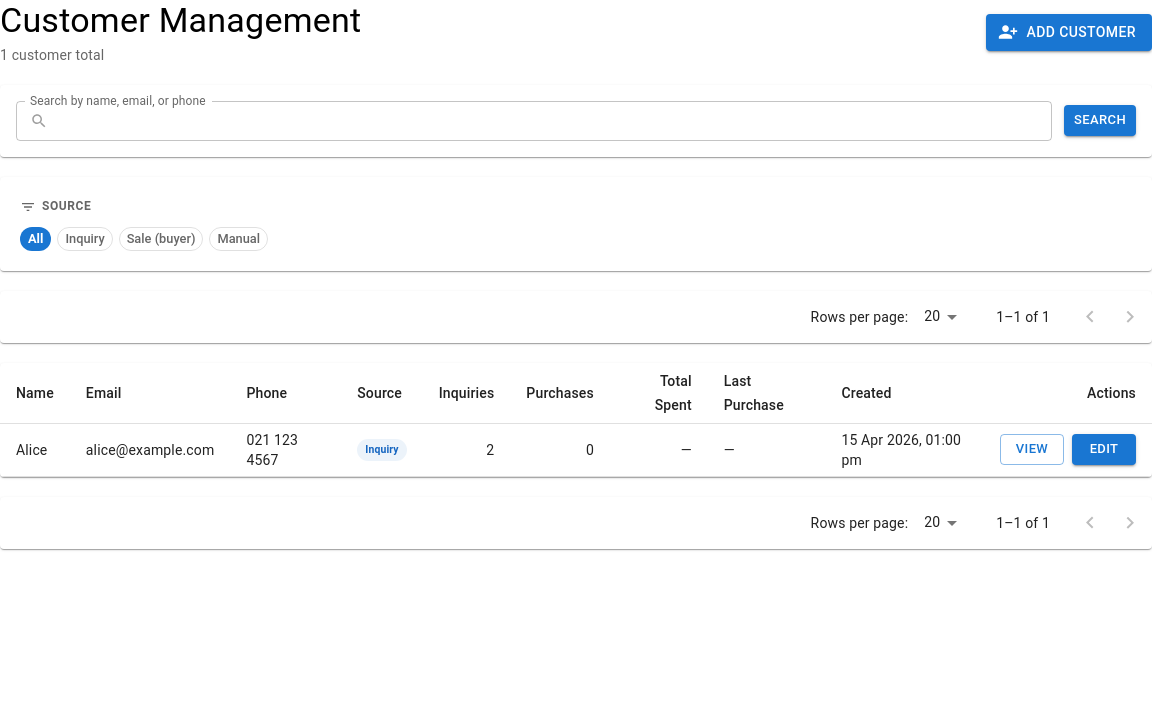
AdminCustomersPage › shows conflict guidance when create customer returns a duplicate contact conflict
Click the button "Add customer" at x=1069, y=32, box left=986, top=14, right=1151, bottom=51
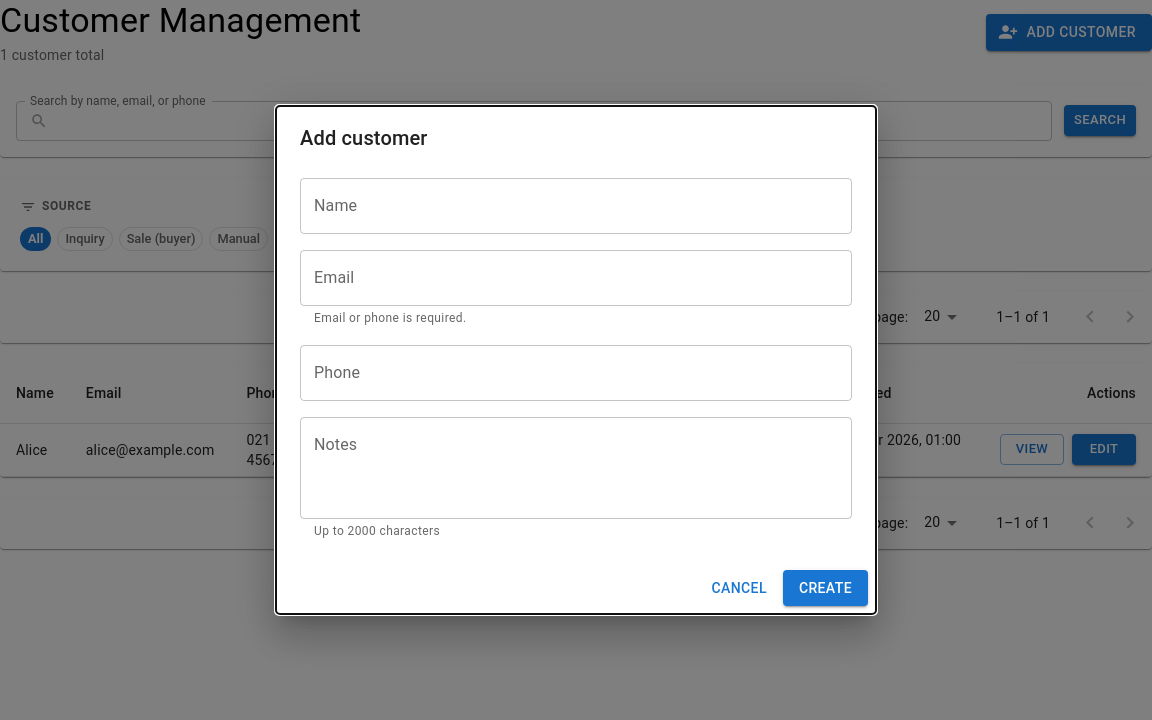
Type "alice@example.com" into the field labelled "Email" at x=576, y=278, box left=300, top=250, right=852, bottom=306
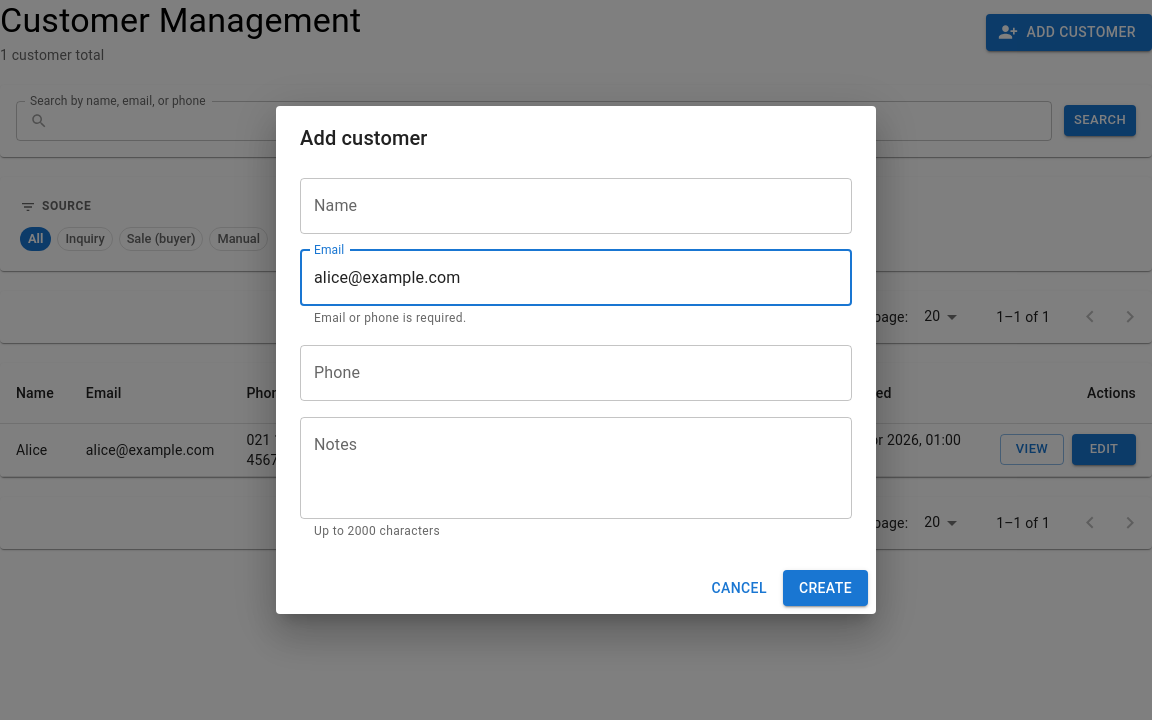
Click the button "Create" at x=825, y=588, box left=783, top=570, right=868, bottom=606
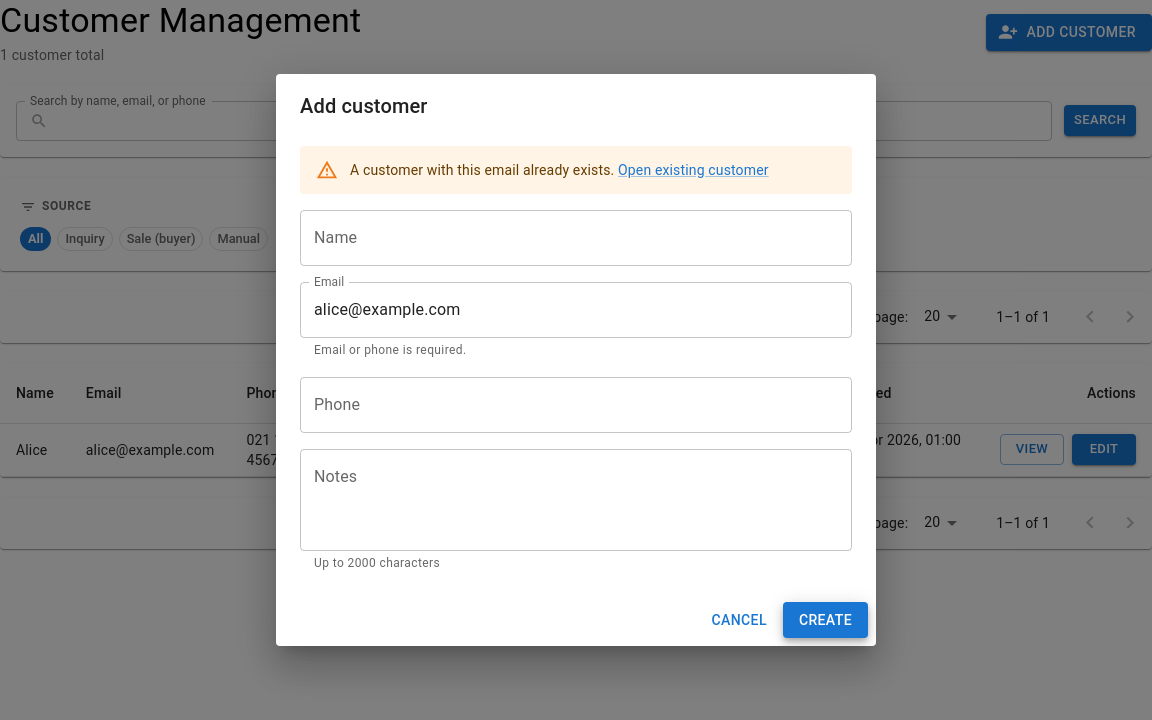
Result: the text "A customer with this email already exists" is shown at left=350, top=162, right=769, bottom=178
